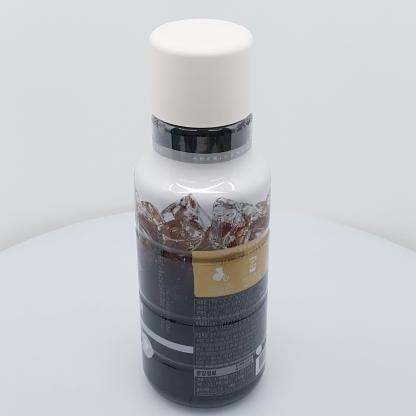-------------1-1L: (134, 19, 270, 408)
